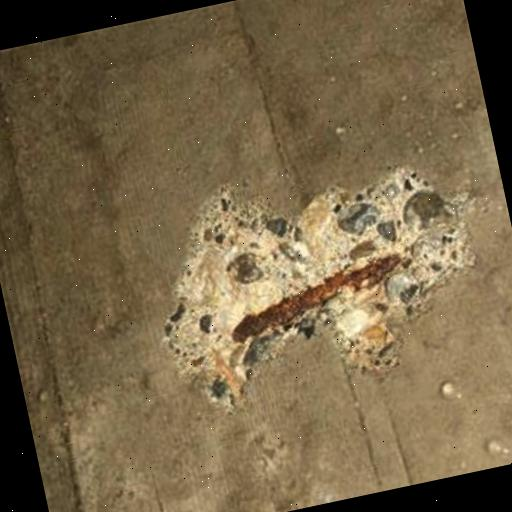spalling: (126, 133, 506, 427)
